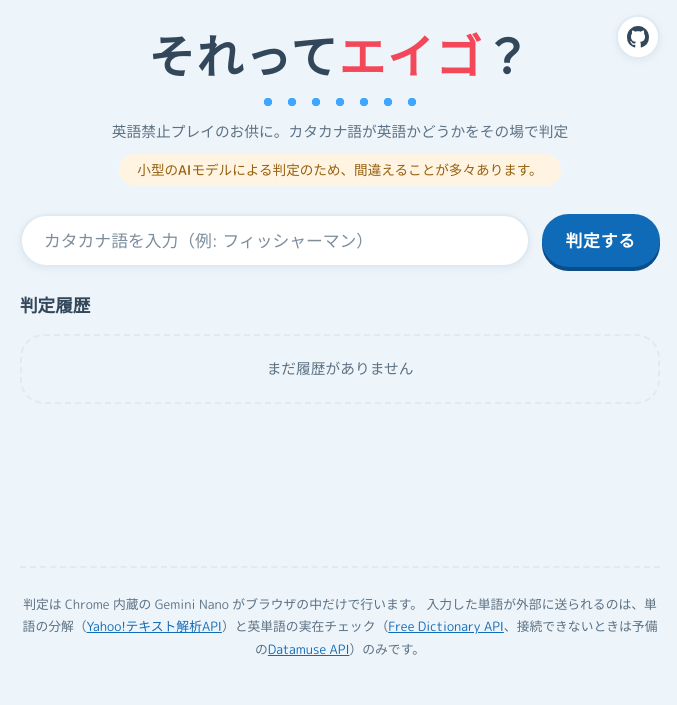
Test: App › 単語を判定すると結果と履歴が表示される
Type "コントロール" into the field at (275, 241), box [20,214,530,267]
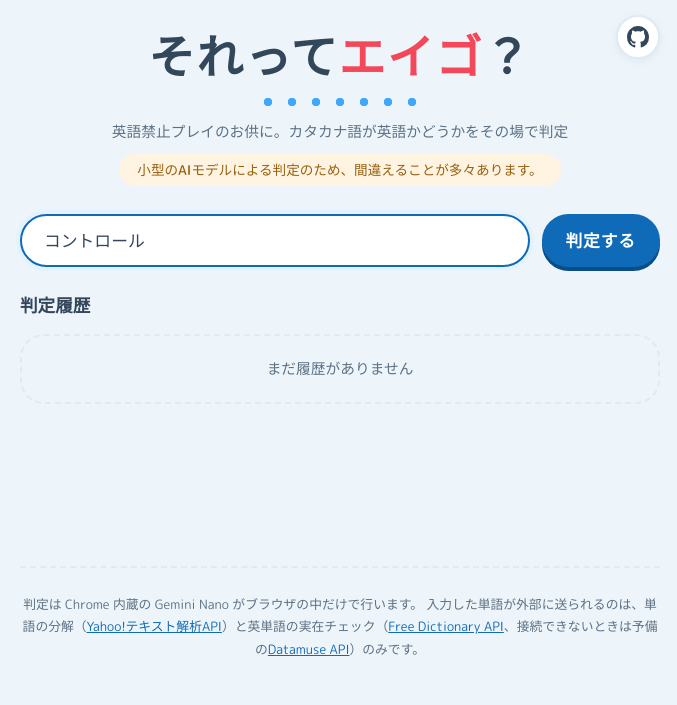
Click the button "判定する" at (601, 241), box [542,214,660,267]
(page scrolled)
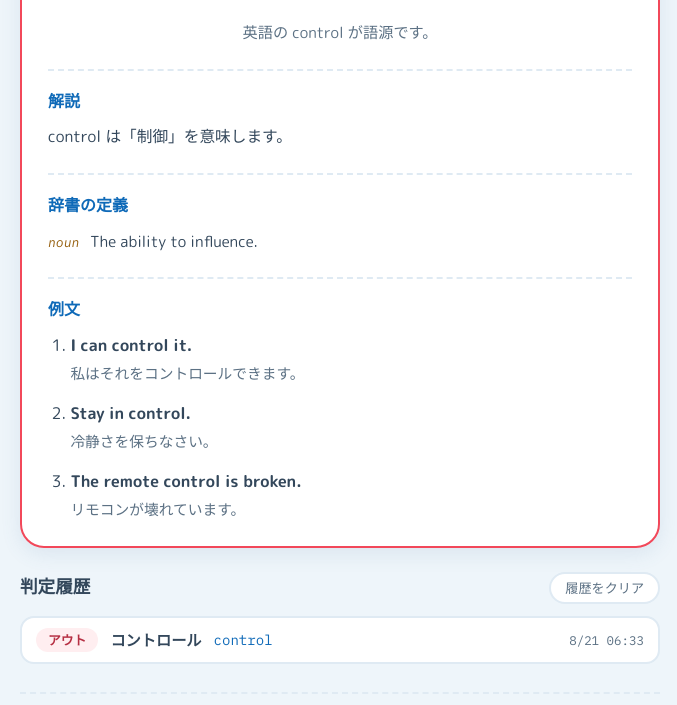
Expected: the text "control は「制御」を意味します。" is shown, [48,125,292,147]
Expected: the text "I can control it." is shown, [70,334,192,356]
